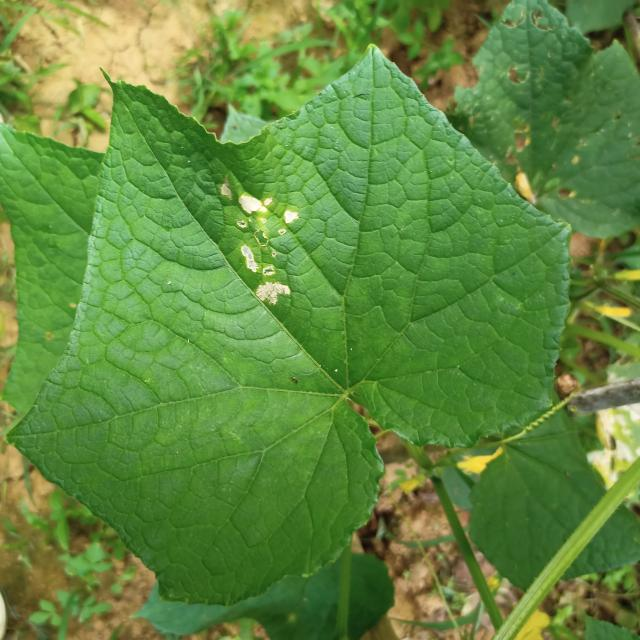disease_cucumber: (208, 175, 303, 310)
